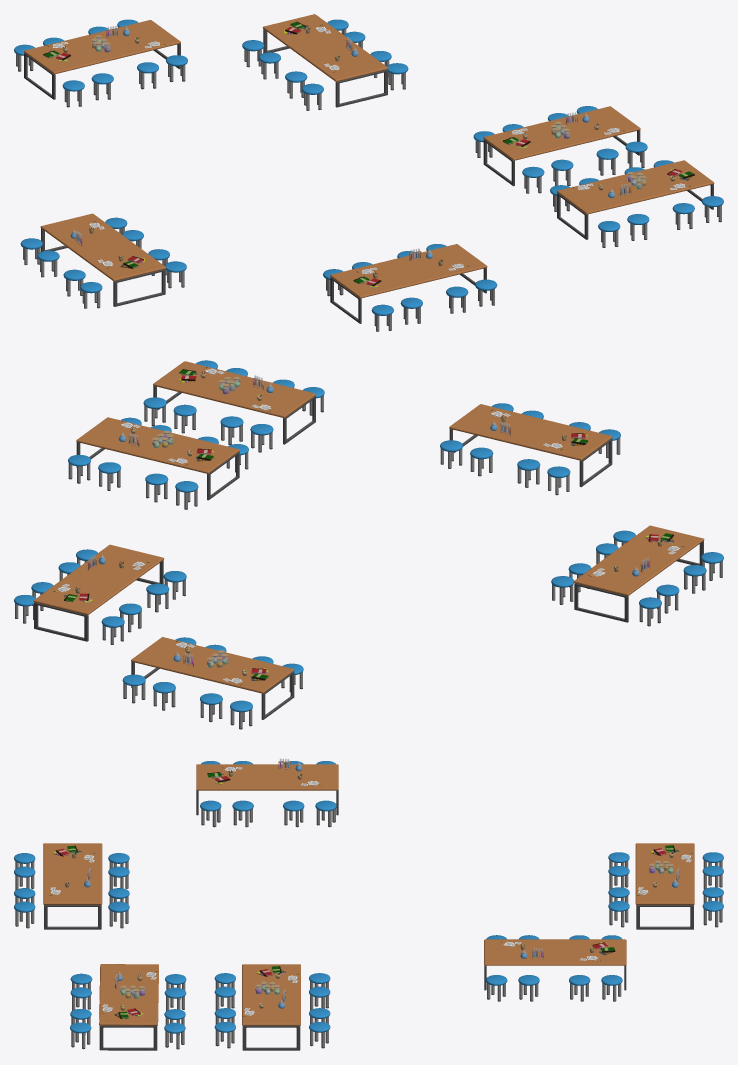
The model's file is d-roombomp-r8-hsab-labor.glb.
3 renders of one model, top to bottom at view 1: azimuth 30°, elevation 25°; view 2: azimuth 150°, elevation 25°; view 3: azimuth 270°, elevation 25°, orthographic. The views are drawn at different scales.
Visible parts, largest first — view 1: assets-dcomp.010, assets-dcomp.009, x8Table.006, x8Table.007, assets-dcomp.011, x8Table.008; view 2: assets-dcomp.010, assets-dcomp.009, assets-dcomp.011, x8Table.008, x8Table.006, x8Table.007; view 3: x8Table.008, x8Table.007, assets-dcomp.011, x8Table.006, assets-dcomp.010, assets-dcomp.009.
Part boxes in pixels (x1,y1,x2,y2): assets-dcomp.010: (20, 213, 186, 308); assets-dcomp.009: (242, 14, 408, 110); x8Table.006: (14, 19, 187, 107); x8Table.007: (473, 106, 647, 193); assets-dcomp.011: (323, 244, 497, 331); x8Table.008: (550, 160, 723, 247); assets-dcomp.010: (551, 525, 723, 626); assets-dcomp.009: (14, 544, 186, 644); assets-dcomp.011: (440, 403, 620, 495); x8Table.008: (143, 360, 324, 452); x8Table.006: (122, 637, 303, 729); x8Table.007: (68, 417, 248, 509); x8Table.008: (70, 964, 186, 1050); x8Table.007: (214, 964, 330, 1050); assets-dcomp.011: (14, 843, 129, 929); x8Table.006: (608, 843, 723, 929); assets-dcomp.010: (196, 758, 338, 827); assets-dcomp.009: (484, 935, 626, 1001).
Bounding box in the file's own units: 21.8 × 1.39 × 24.08.
Materials: 4 (3 with a texture image).
